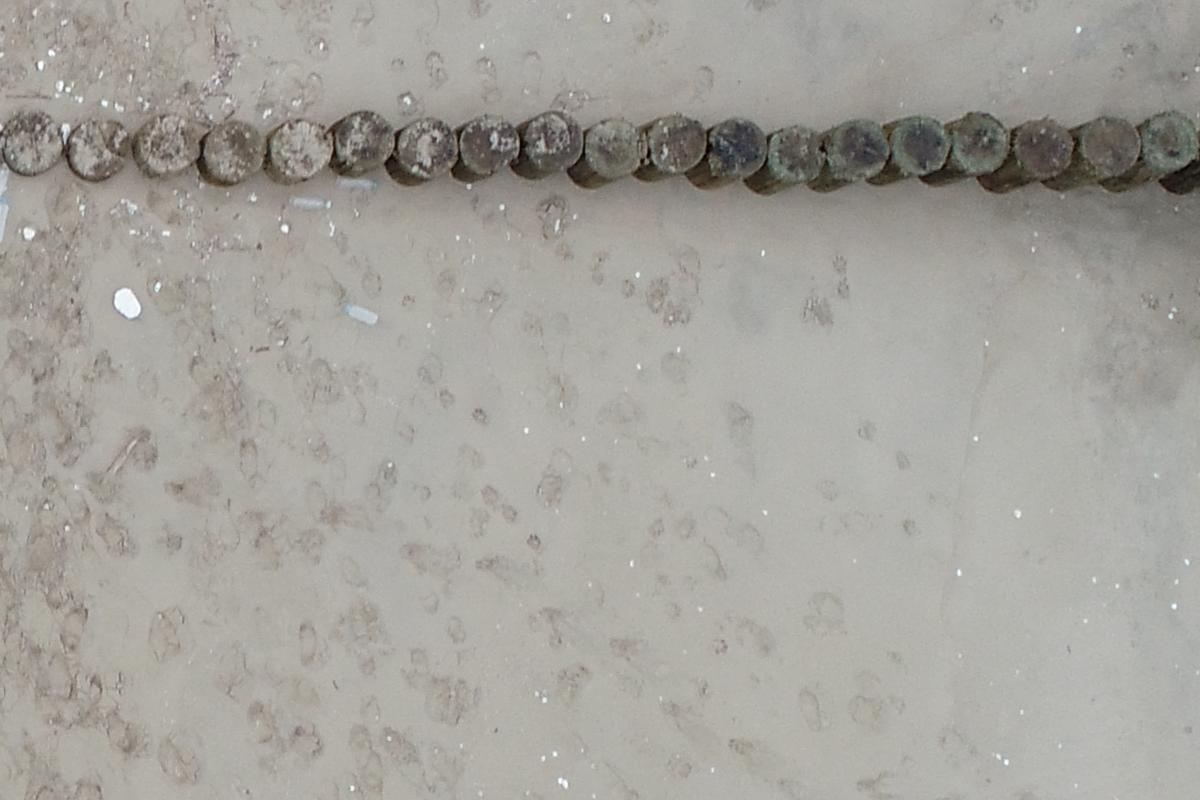(21)Styrofoam_Piece: (114, 281, 140, 320)
\: (341, 297, 381, 329), (285, 194, 331, 211), (334, 175, 384, 190), (0, 166, 11, 216), (0, 193, 7, 246)
